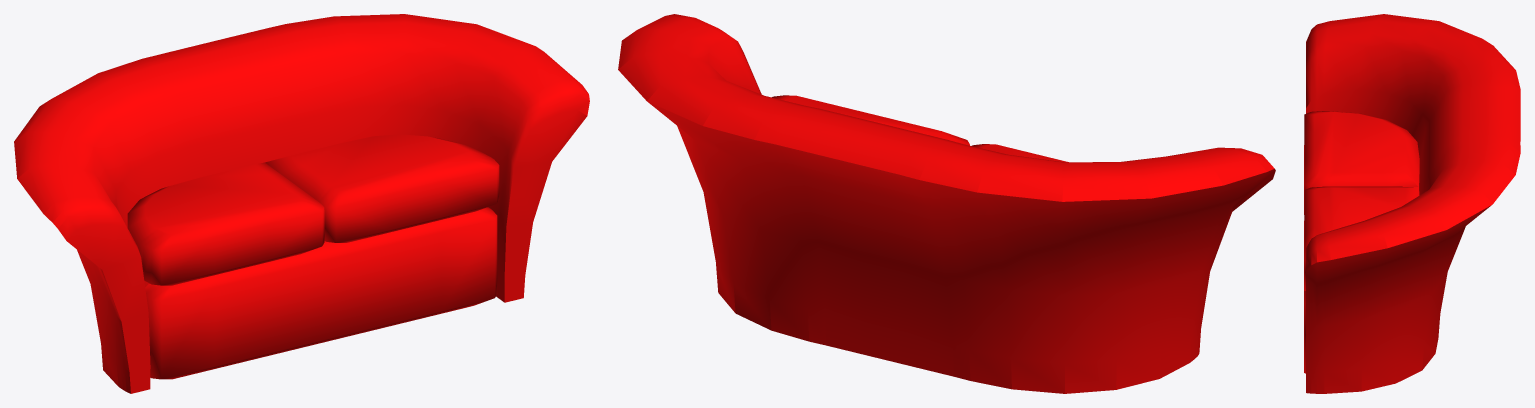
Rendered from couch.obj.
3 views of the same model, side by side, from view 1: azimuth 30°, elevation 25°; view 2: azimuth 150°, elevation 25°; view 3: azimuth 270°, elevation 25° (orthographic). The views are drawn at different scales.
Visible parts, largest first — view 1: couch; view 2: couch; view 3: couch.
Boxes of the visible parts, left/top/right/bottom form: couch: left=14, top=14, right=589, bottom=393; couch: left=618, top=14, right=1275, bottom=393; couch: left=1304, top=14, right=1520, bottom=393.
Bounding box in the file's own units: 66.9 × 26.43 × 26.25.
